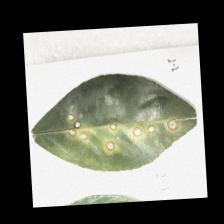canker: (57, 106, 179, 153)
